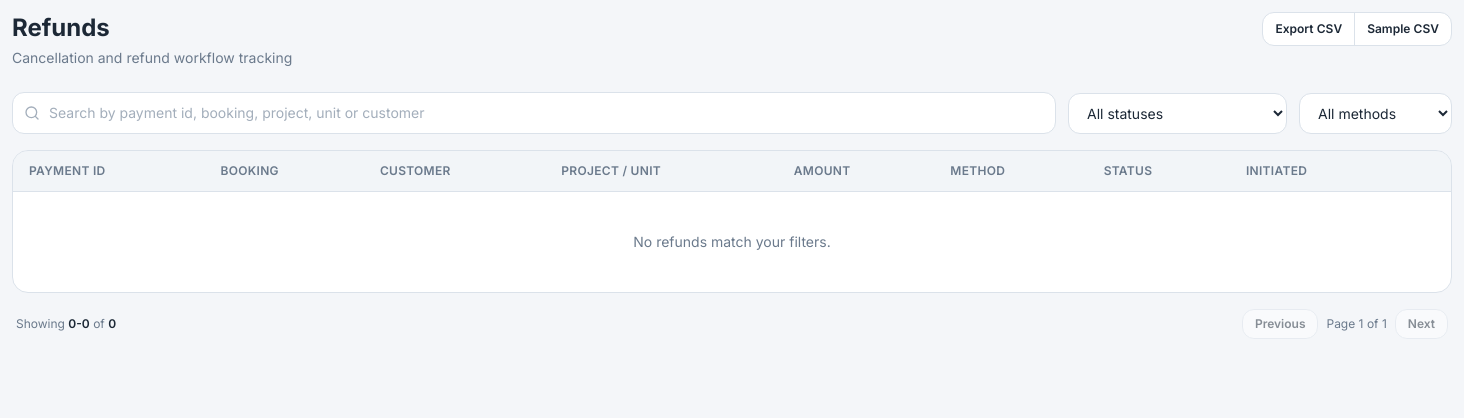
it: RefundsPage - filter the server doesn't know › says so instead of showing a validation error
Expected: the text "No refunds match your filters." is shown, x1=13 y1=192 x2=1451 y2=292
Step 1. Select "Cheque" in the 2nd dropdown → (1376,113), box x1=1299 y1=92 x2=1452 y2=134
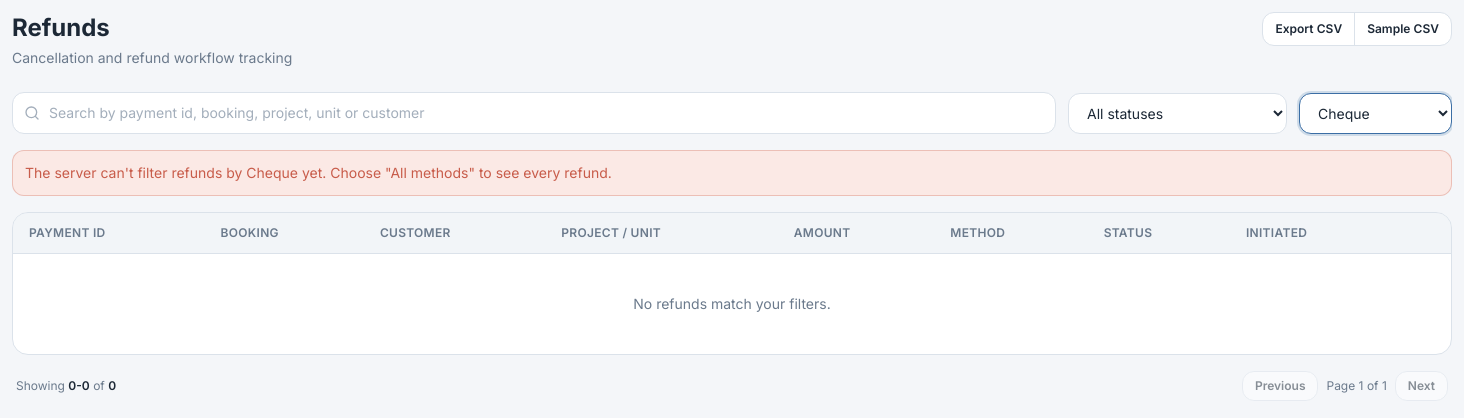
Now the text "can't filter refunds by Cheque yet" is shown, box x1=25 y1=164 x2=612 y2=181
